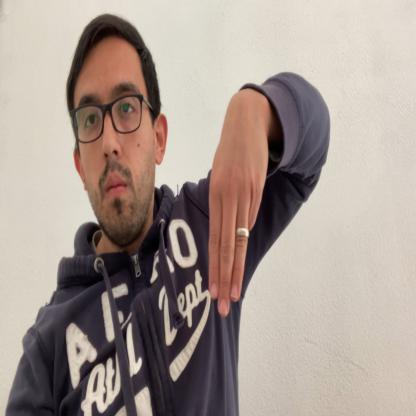M: (208, 101, 268, 316)
